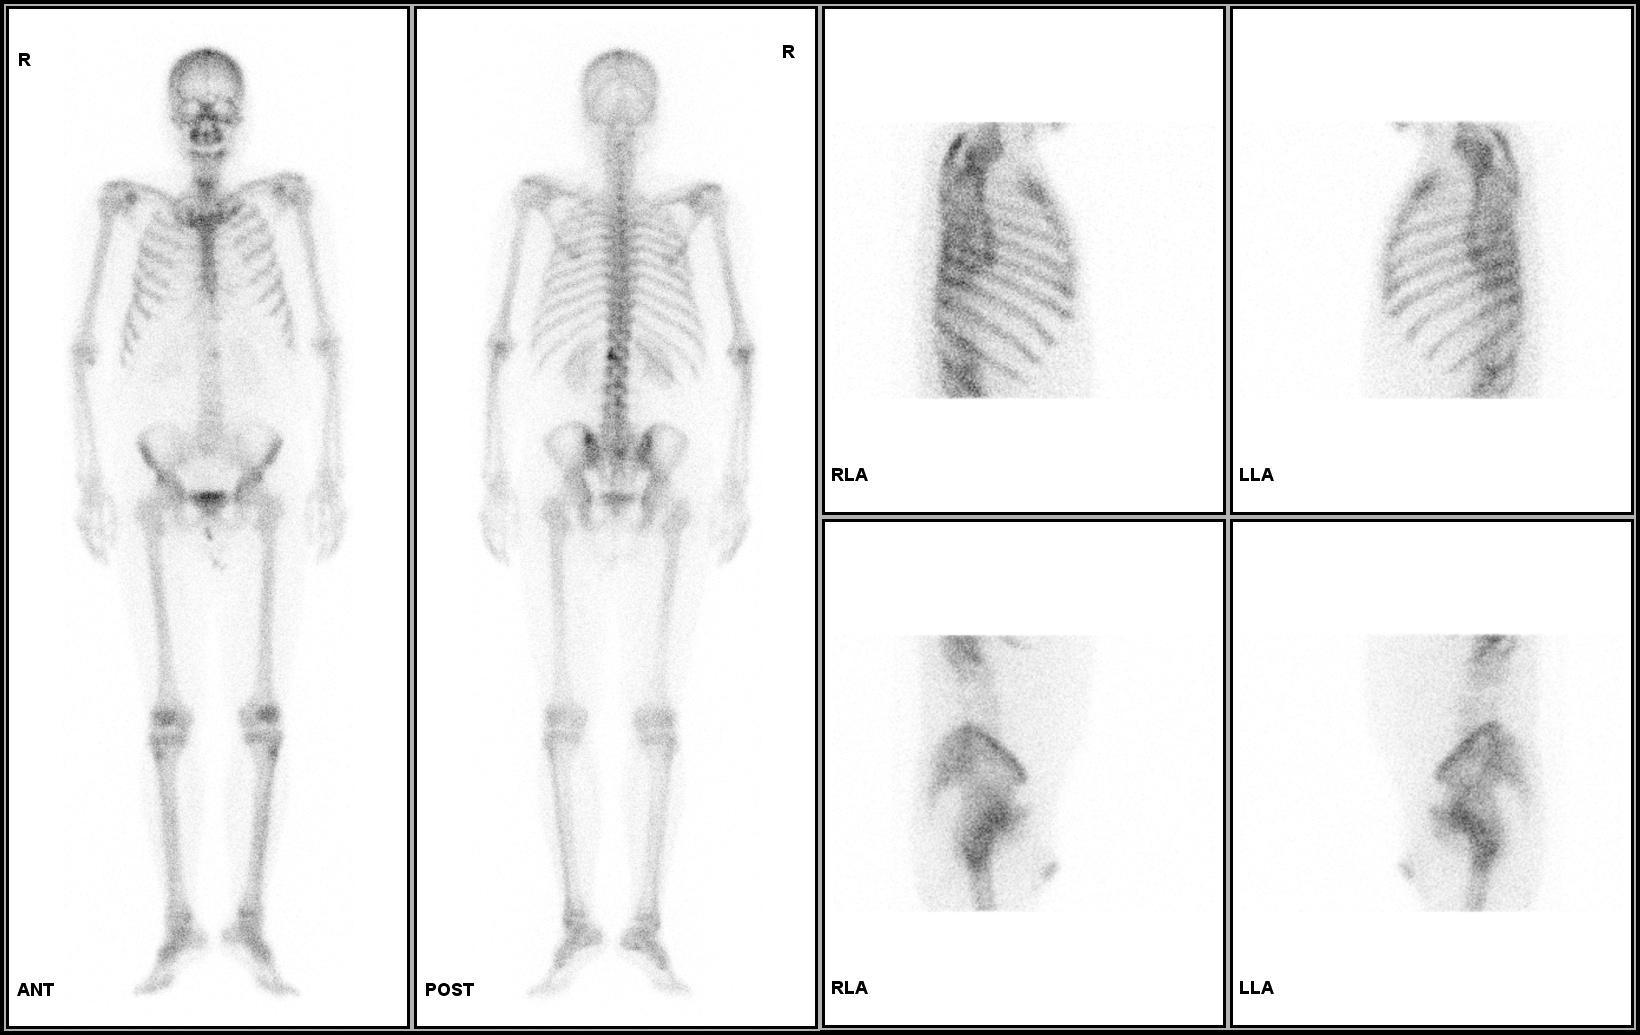person: (7, 8, 817, 1028)
